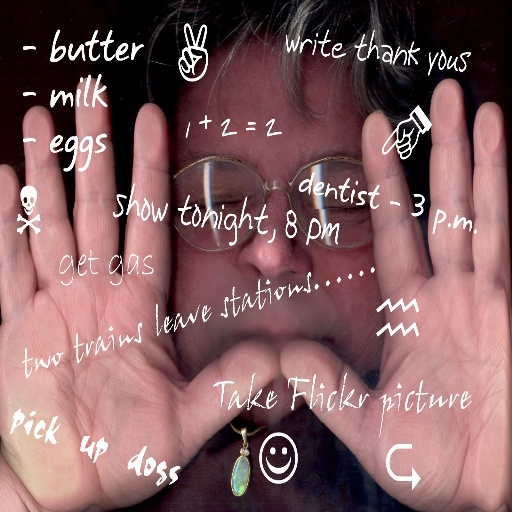hand: (0, 75, 280, 511), (280, 81, 511, 511)
